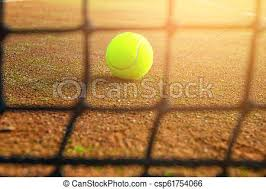tennis_ball: (106, 32, 153, 80)
